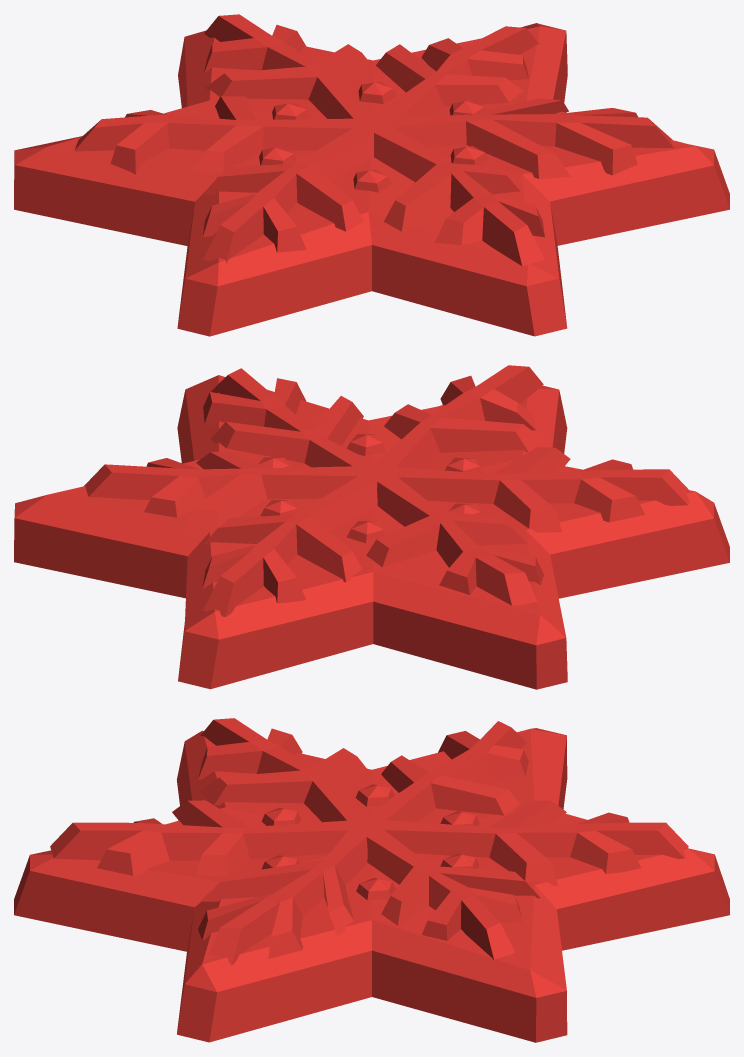
The model's file is SM_Gingerbread_Snowflake.fbx.
3 renders of one model, top to bottom at view 1: azimuth 30°, elevation 25°; view 2: azimuth 150°, elevation 25°; view 3: azimuth 270°, elevation 25°, orthographic.
Parts seen in each view (by area): view 1: gingerbread-snowflake; view 2: gingerbread-snowflake; view 3: gingerbread-snowflake.
Part boxes in pixels (bbox=[...]): gingerbread-snowflake: bbox=[14, 14, 729, 336]; gingerbread-snowflake: bbox=[14, 365, 729, 689]; gingerbread-snowflake: bbox=[14, 718, 729, 1042].
Bounding box in the file's own units: 0.0898 × 0.0127 × 0.1003.
